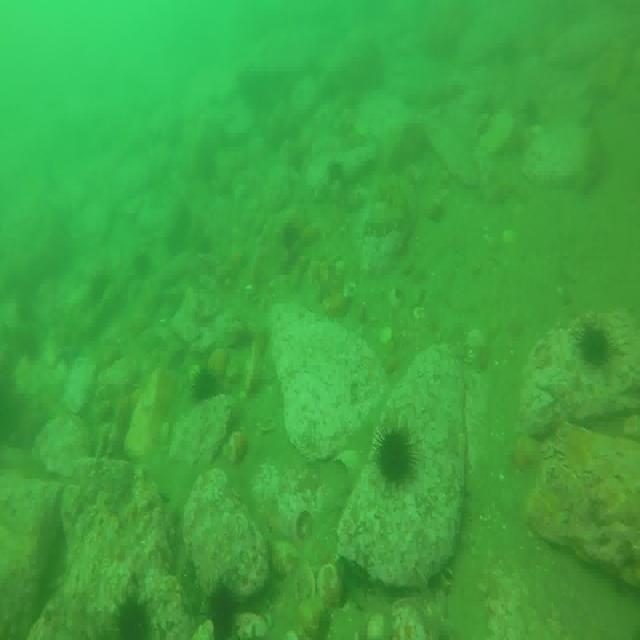echinus: (377, 423, 415, 485), (204, 578, 238, 633), (115, 592, 151, 640), (579, 320, 613, 366), (191, 369, 219, 405)
